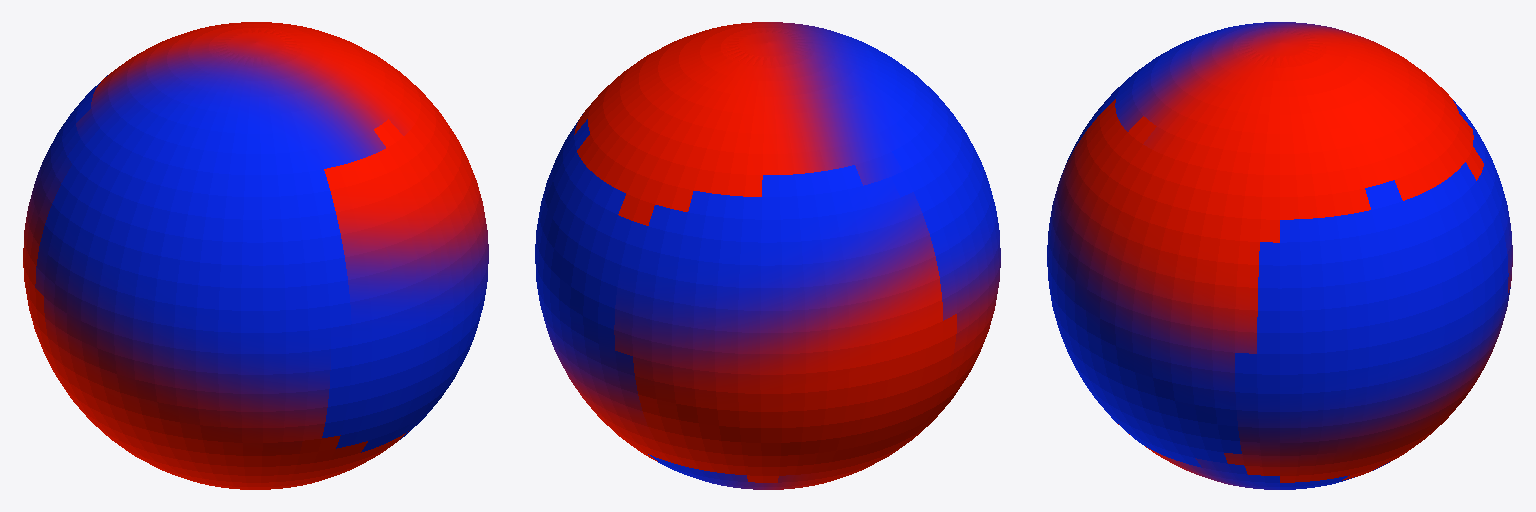
The picture shows the model from 3 angles: view 1: azimuth 30°, elevation 25°; view 2: azimuth 150°, elevation 25°; view 3: azimuth 270°, elevation 25°; orthographic projection.
Visible parts, largest first — view 1: 球; view 2: 球; view 3: 球.
Part boxes in pixels (x1,y1,x2,y2): 球: (23, 22, 488, 489); 球: (535, 22, 1000, 489); 球: (1047, 22, 1512, 489).
Bounding box in the file's own units: 1.97 × 2 × 1.97.
1 materials, 1 textured.